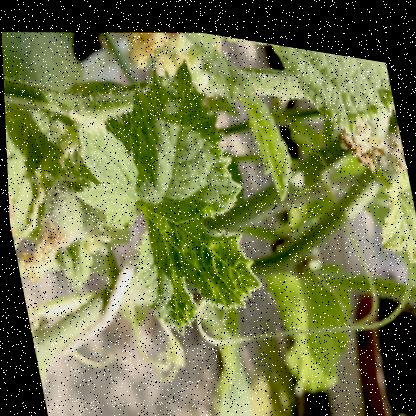Normal: (44, 14, 273, 358)
